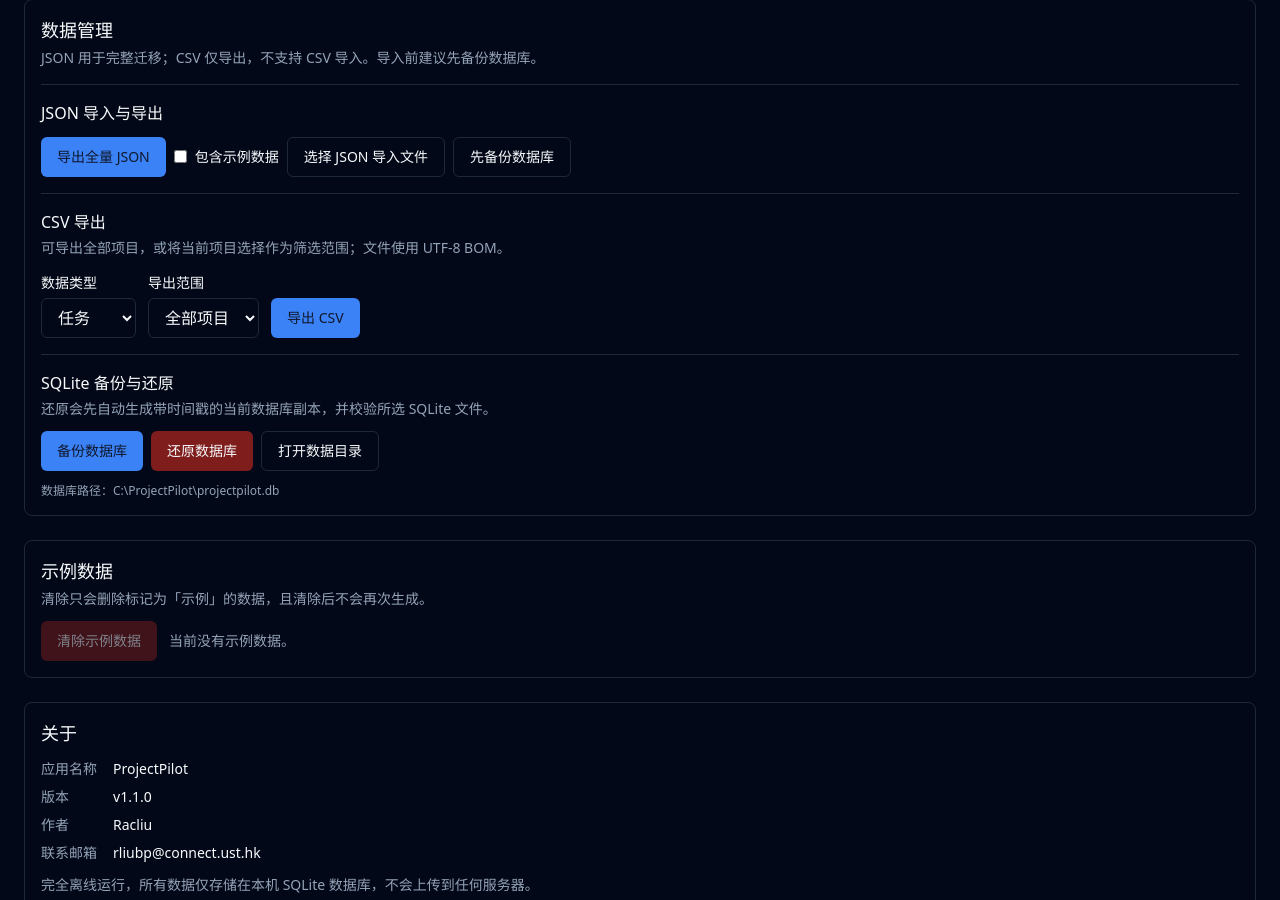
Test: SettingsPage 数据管理 › 还原错误可用中文区域渲染且不会崩溃
(page scrolled)
Click the button "还原数据库": (202, 451) [151,431,253,471]
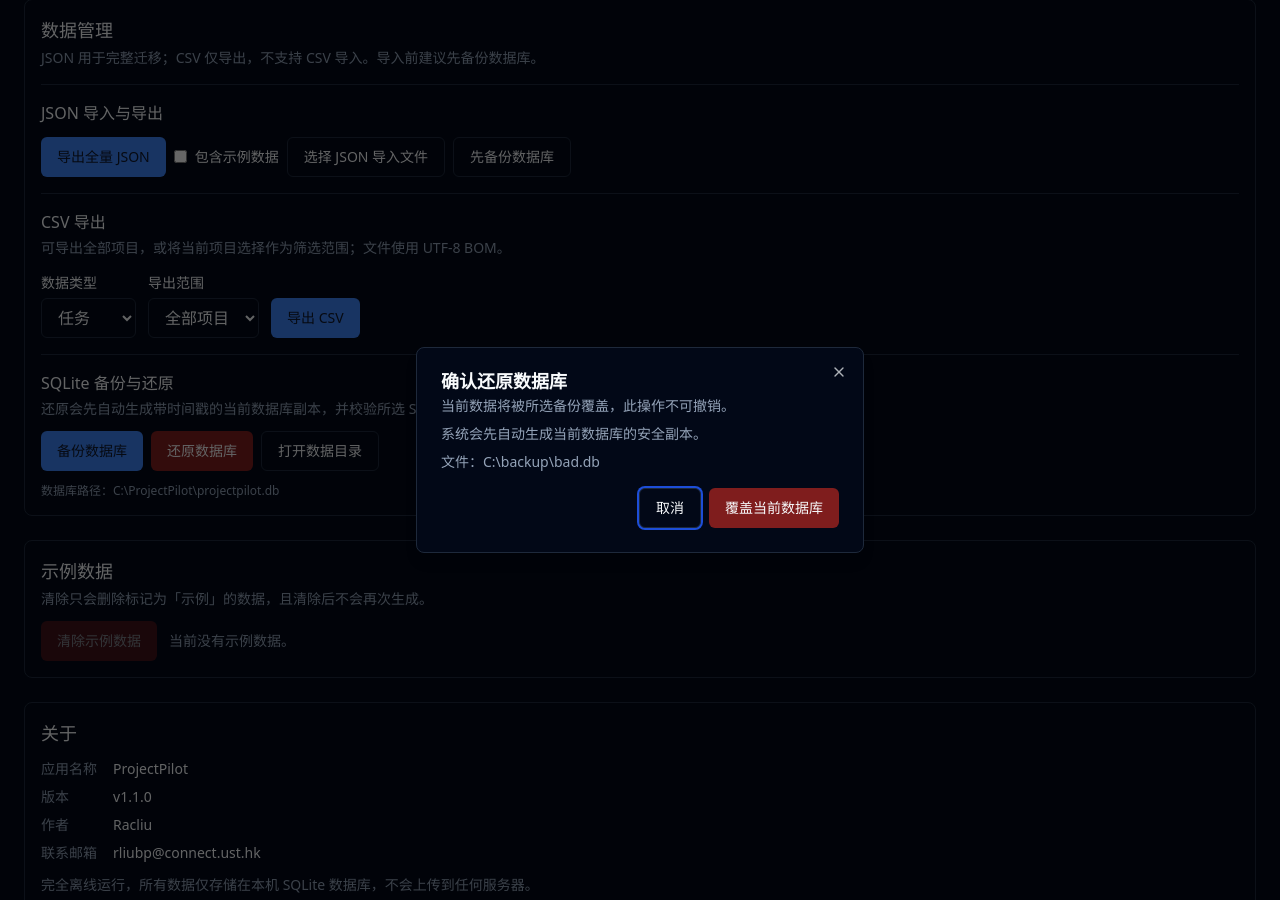
Click the button "覆盖当前数据库": (774, 508) [709,488,839,528]
(page scrolled)
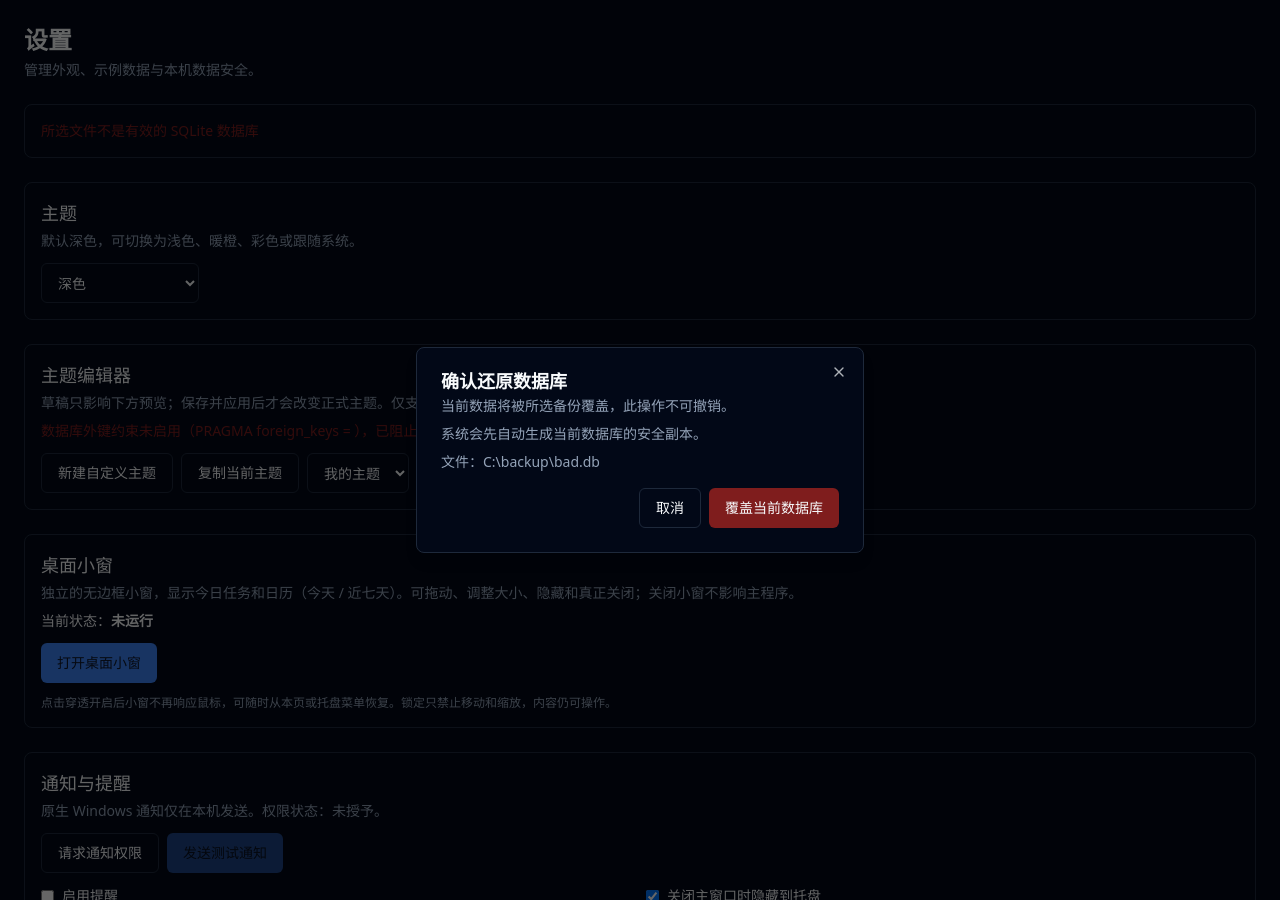
Expected: the text "所选文件不是有效的 SQLite 数据库" is shown, [41,121,259,140]
